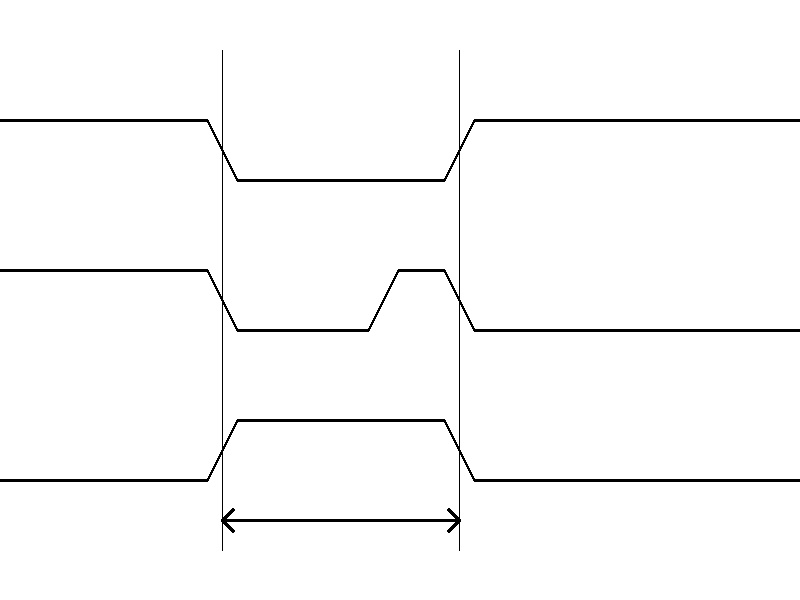double_arrow: (222, 505, 459, 535)
